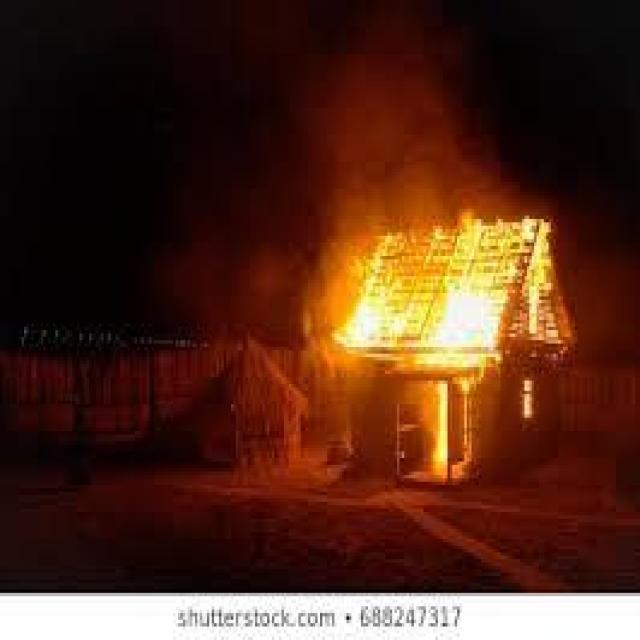Fire: (330, 212, 580, 362), (396, 360, 458, 480)
Smoke: (258, 5, 550, 206), (161, 189, 309, 374)
